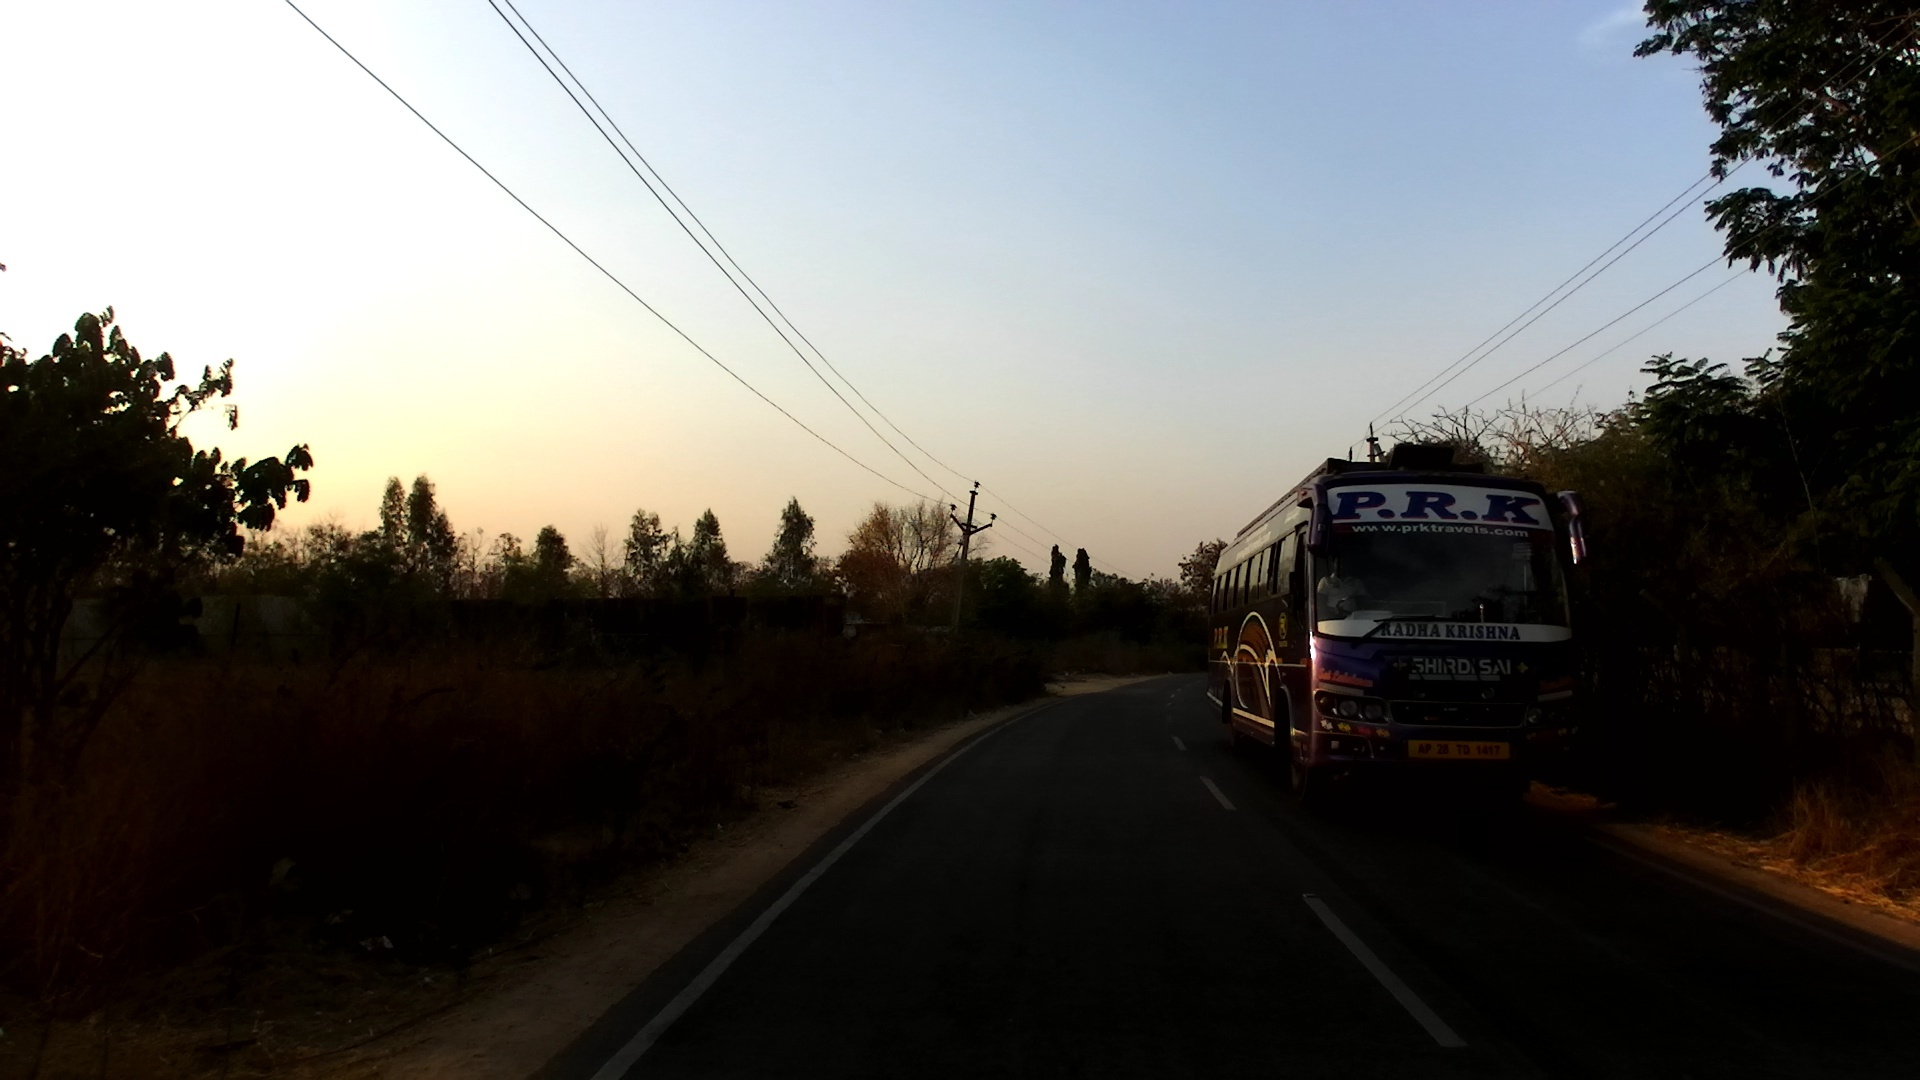bus: (1207, 458, 1592, 824)
